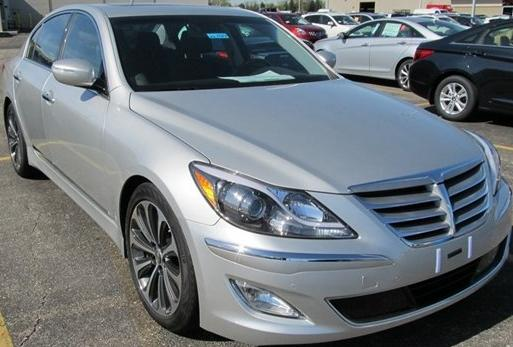front_view: (187, 157, 513, 346)
headlight: (186, 155, 360, 249)
side_glass: (21, 6, 113, 102)
